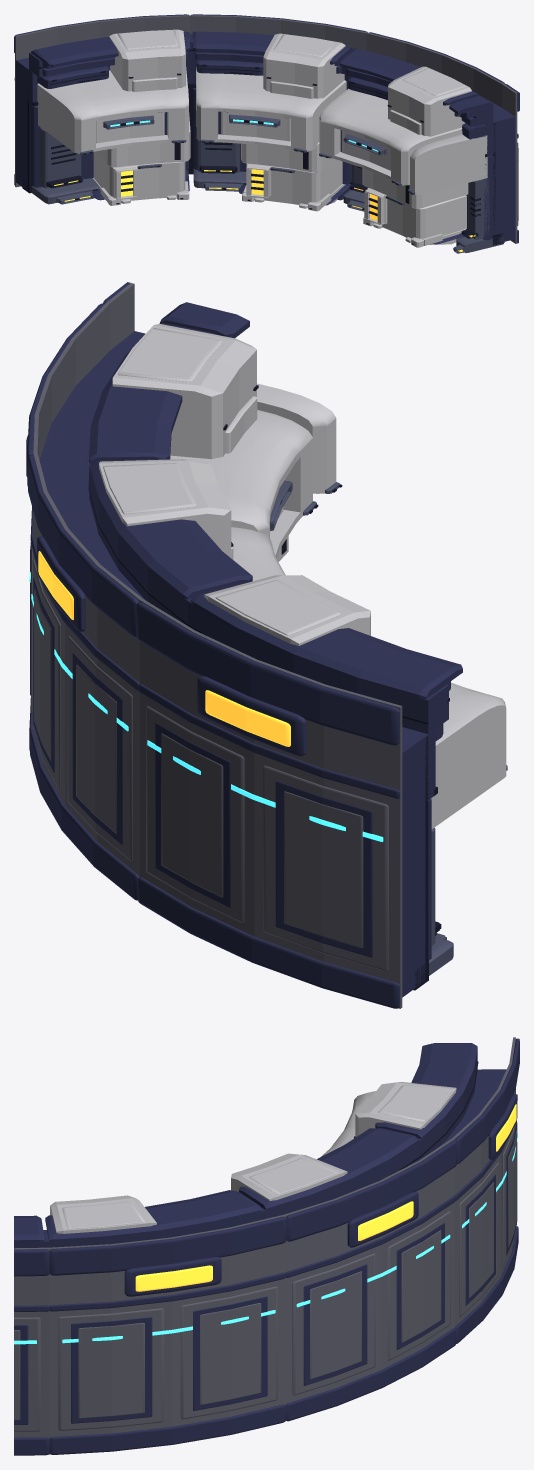
The model's file is hull.arc2c.b.glb.
3 renders of one model, top to bottom at view 1: azimuth 30°, elevation 25°; view 2: azimuth 150°, elevation 25°; view 3: azimuth 270°, elevation 25°, orthographic. The views are drawn at different scales.
Visible parts, largest first — view 1: GEO-hull.arc2c.b; view 2: GEO-hull.arc2c.b; view 3: GEO-hull.arc2c.b.
Part boxes in pixels (x1,y1,x2,y2): GEO-hull.arc2c.b: (14,14,519,253); GEO-hull.arc2c.b: (26,282,507,1008); GEO-hull.arc2c.b: (14,1037,519,1455).
Size of the model in its own units: 2.23 by 1 by 2.23.
